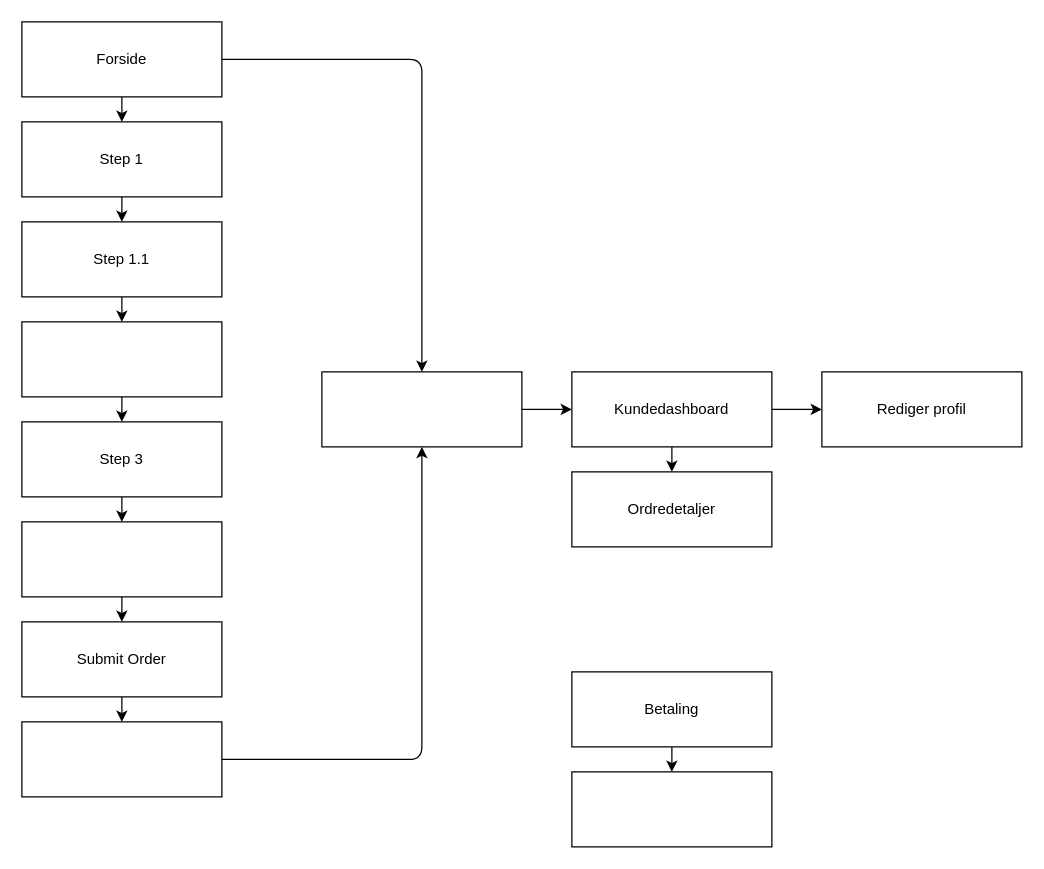
This 1044x869 diagram has some shape labels left out. The box of each missing label's shape, as (x1, y1, x2, y2) in pixels:
Betaling bekræftet: (571, 771, 772, 847)
Login: (321, 371, 522, 447)
Step 2: (21, 321, 222, 397)
Step 4: (21, 521, 222, 597)
Tak-siden: (21, 721, 222, 797)
